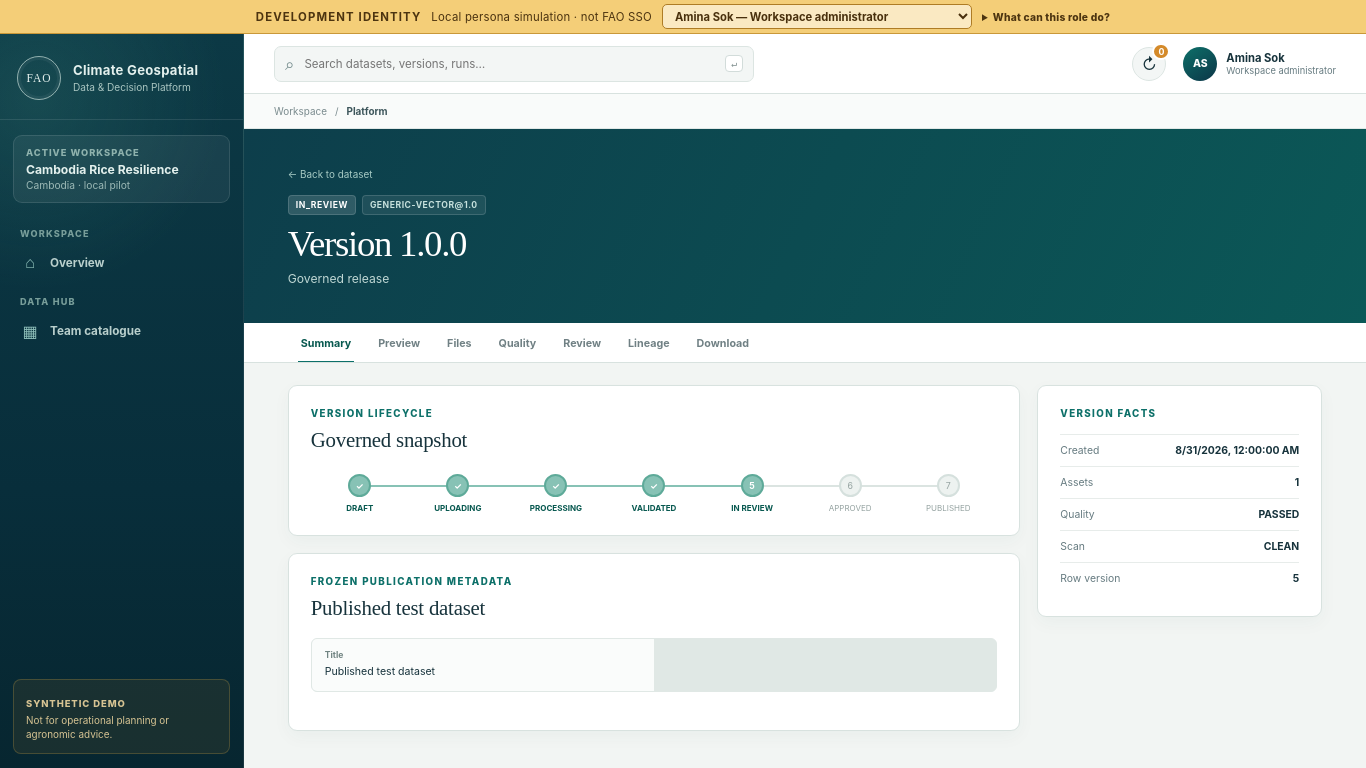
Scenario: Data Hub interaction states › shows review decisions only to reviewers
The width and height of the screenshot is (1366, 768).
expect the heading "Version 1.0.0" is shown: met, box [288,225,486,263]
Click the button "Review": {"x": 582, "y": 343} [550,323,614,362]
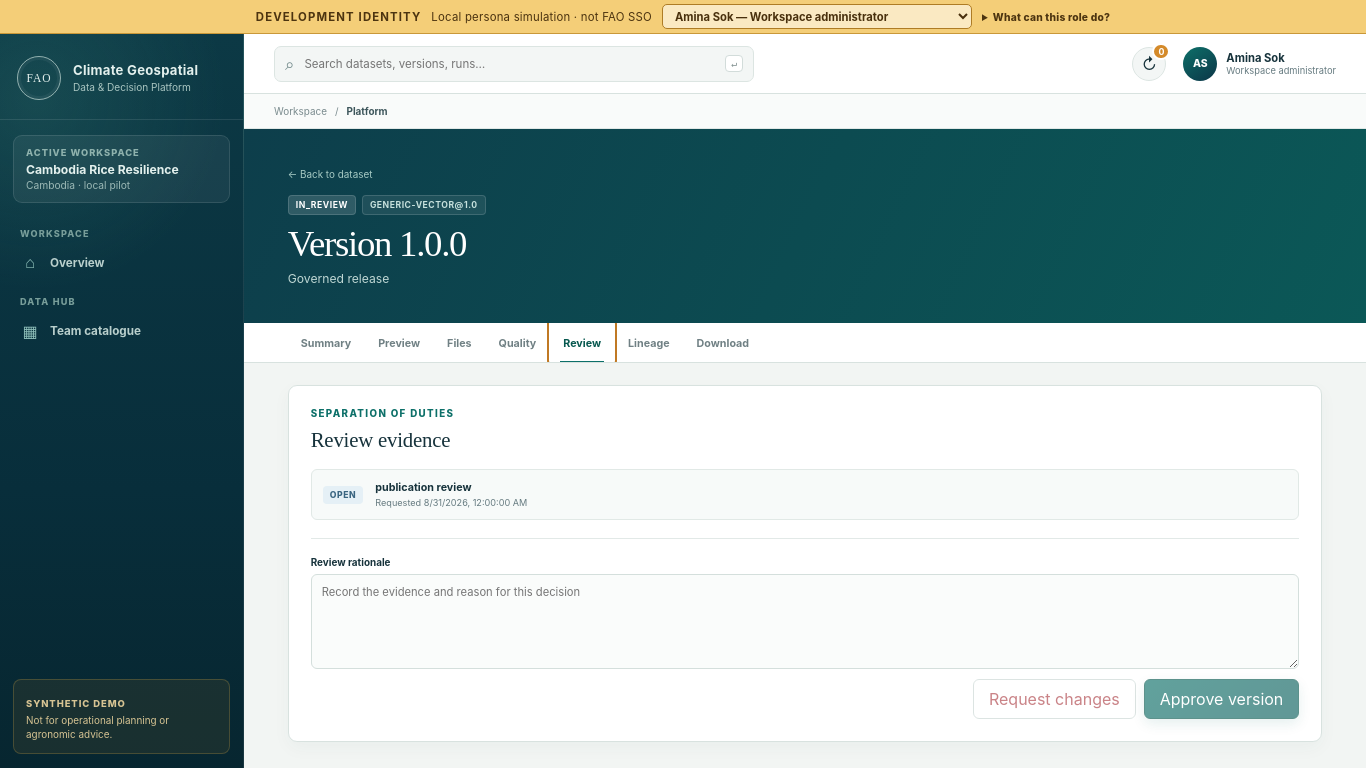
expect the button "Approve version" is shown: met, box [1144,679,1299,719]
